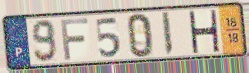0: (126, 12, 154, 60)
5: (93, 16, 122, 59)
9: (31, 18, 60, 64)
F: (59, 16, 91, 62)
H: (187, 9, 221, 54)
I: (161, 11, 175, 58)
